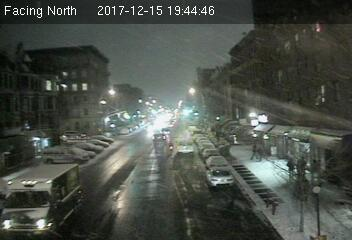car: (206, 168, 234, 186), (151, 132, 166, 144)
truck: (176, 137, 194, 154)
ups: (5, 164, 84, 236)
